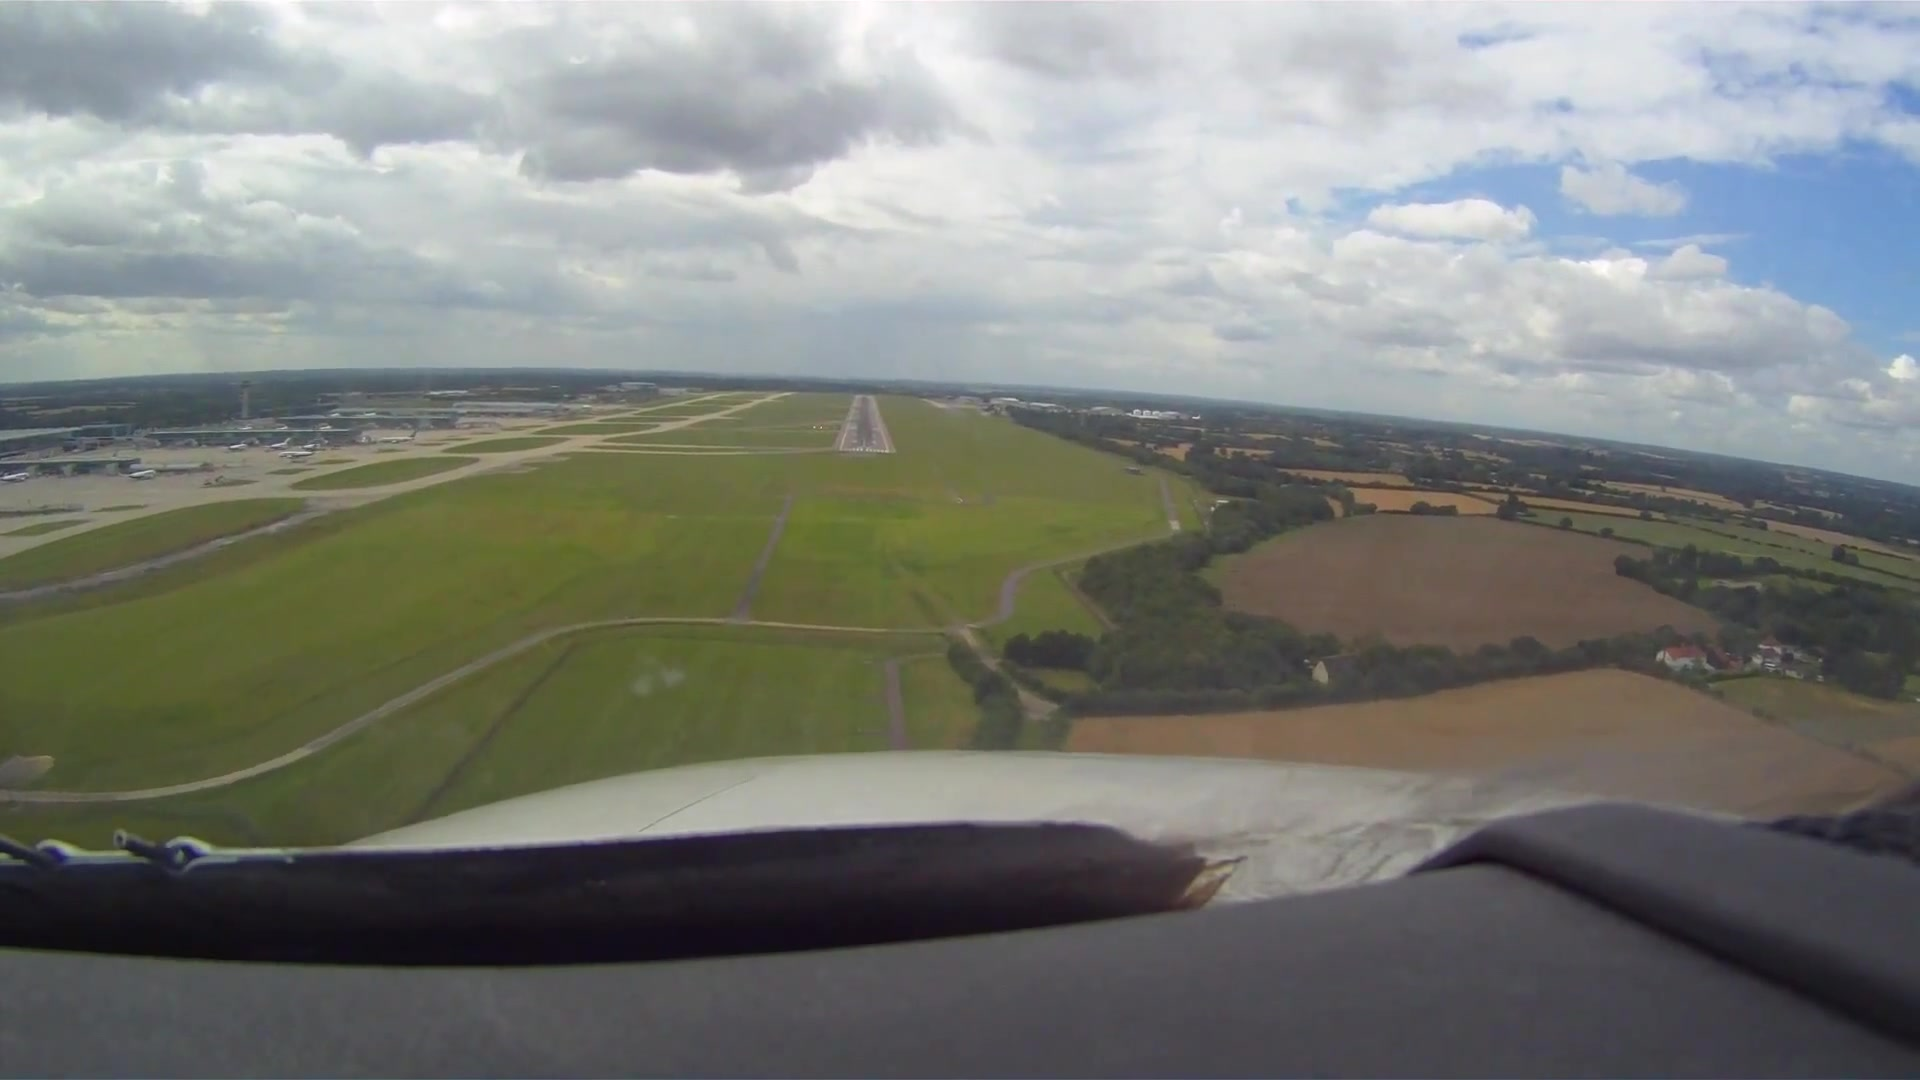entrance: (837, 447, 887, 454)
runway: (835, 394, 893, 454)
